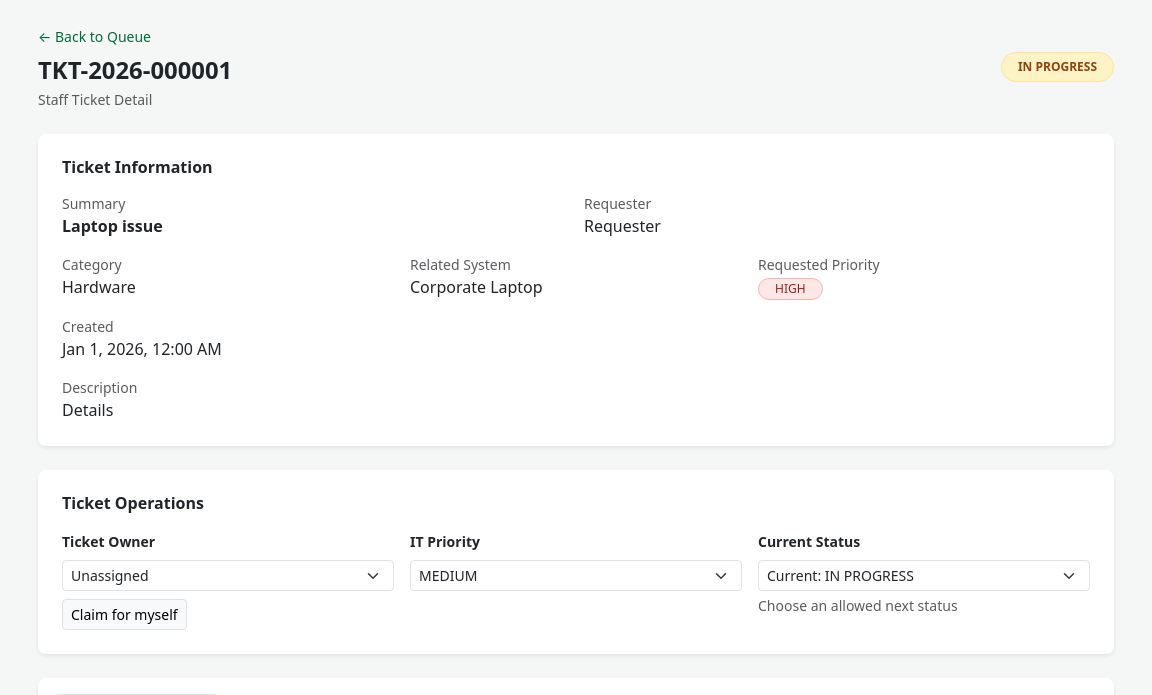
Test: StaffTicketDetailPage › keeps the current state and reports a rejected status transition
Select "RESOLVED" in the dropdown labelled "Current Status": (924, 576) left=758, top=560, right=1090, bottom=591
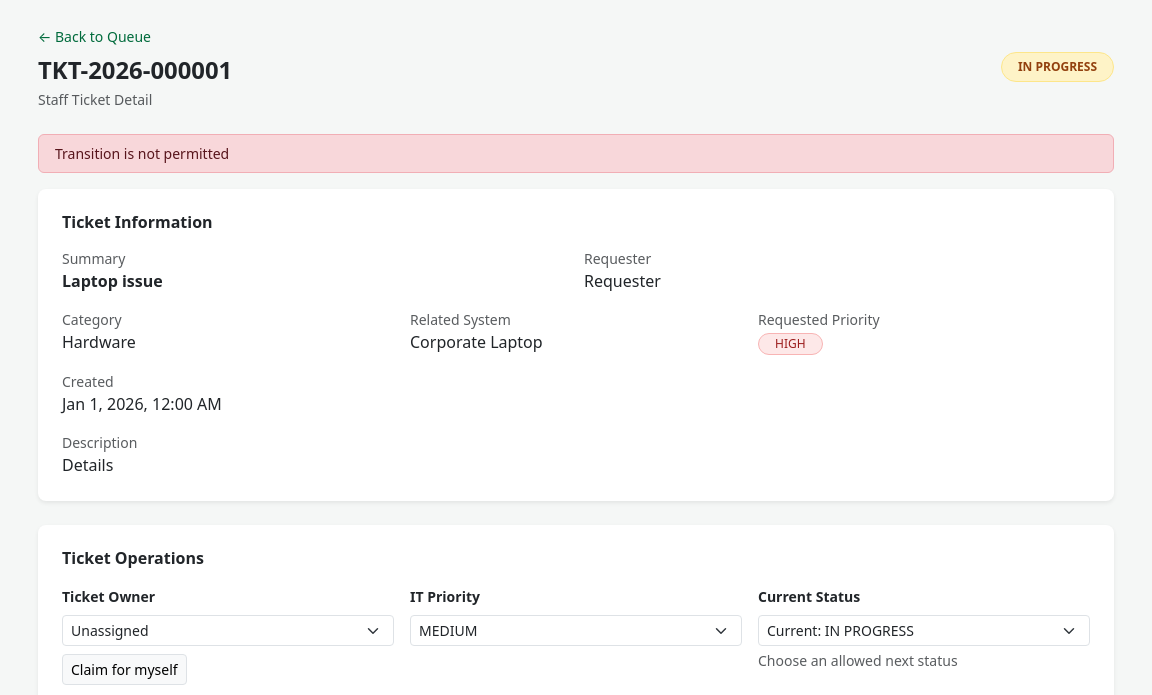
Check: the text "IN PROGRESS" is shown, box left=1001, top=52, right=1114, bottom=82
Check: the message reads "Transition is not permitted", box left=55, top=144, right=229, bottom=163
